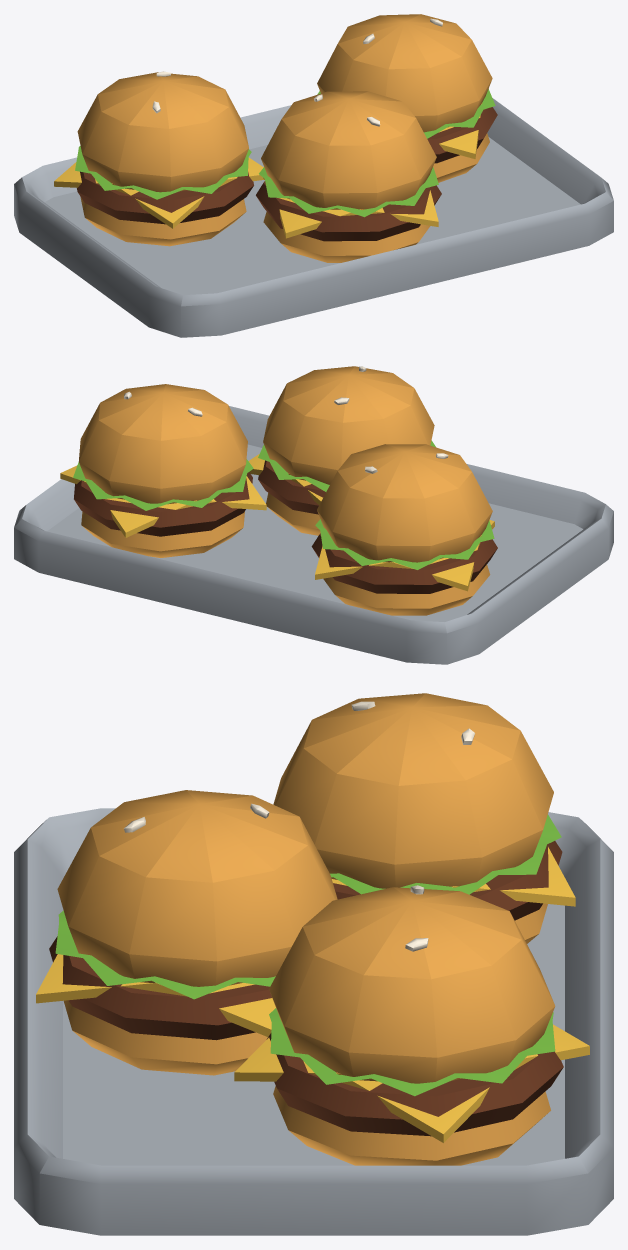
File: Bandeja.fbx
The picture shows the model from 3 angles, top to bottom: view 1: azimuth 30°, elevation 25°; view 2: azimuth 150°, elevation 25°; view 3: azimuth 270°, elevation 25°; orthographic projection. The views are drawn at different scales.
Parts seen in each view (by area): view 1: Bandeja; view 2: Bandeja; view 3: Bandeja.
Part boxes in pixels (bbox=[...]): Bandeja: bbox=[14, 14, 613, 337]; Bandeja: bbox=[14, 366, 613, 664]; Bandeja: bbox=[14, 693, 613, 1235].
Bounding box in the file's own units: 1.6 × 0.5 × 1.1.
1 material, 1 textured.
